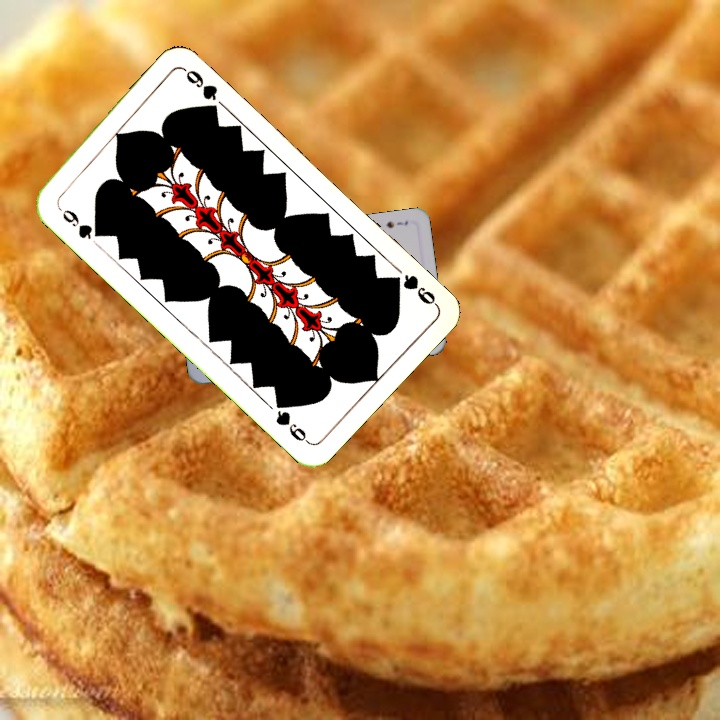G9: (53, 201, 105, 243), (385, 270, 440, 308)
S7: (383, 216, 411, 231)
